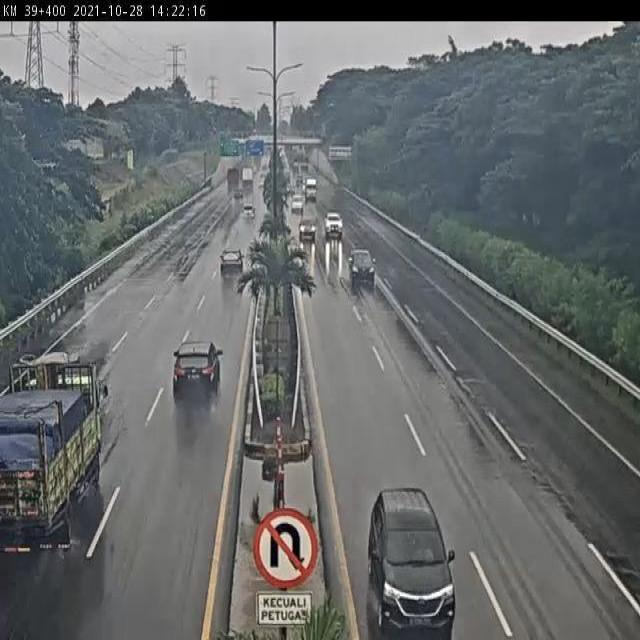car: (367, 484, 458, 640), (171, 339, 222, 401), (346, 247, 381, 285), (213, 244, 247, 280), (236, 205, 259, 232), (296, 216, 315, 241), (324, 211, 342, 236), (289, 191, 305, 212)
small truck: (0, 345, 114, 571)
